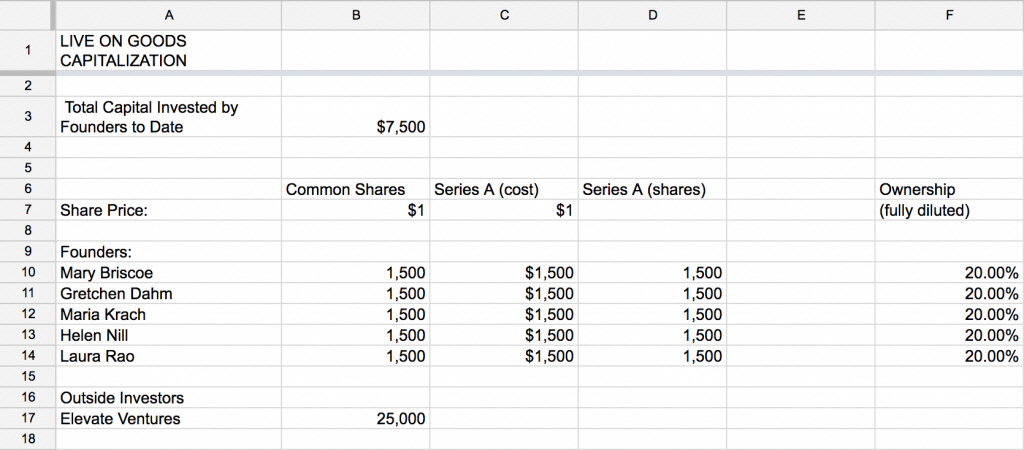table: (56, 177, 1024, 430)
